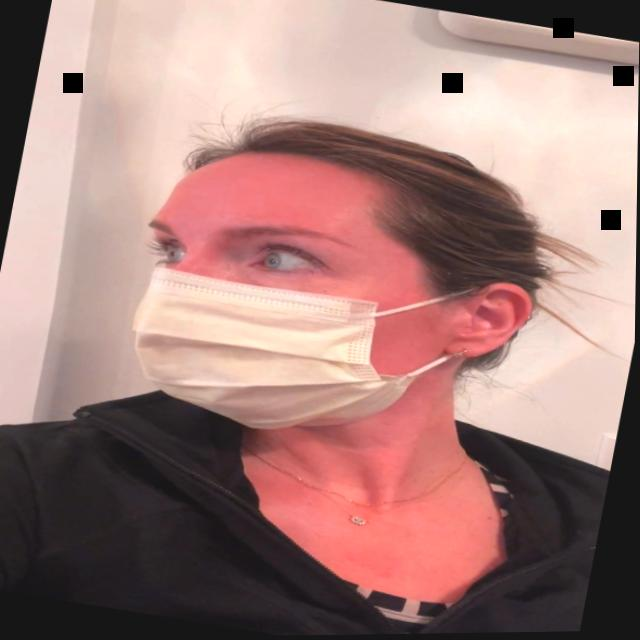Mask: (112, 131, 504, 466)
